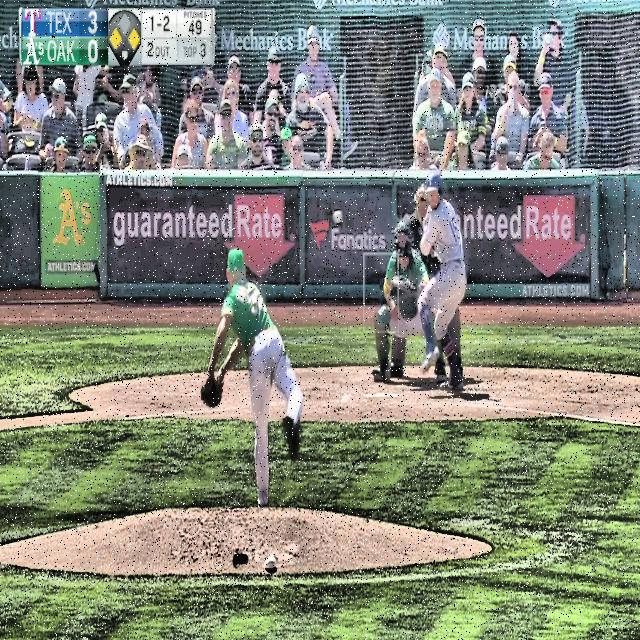baseball: (332, 208, 344, 226)
